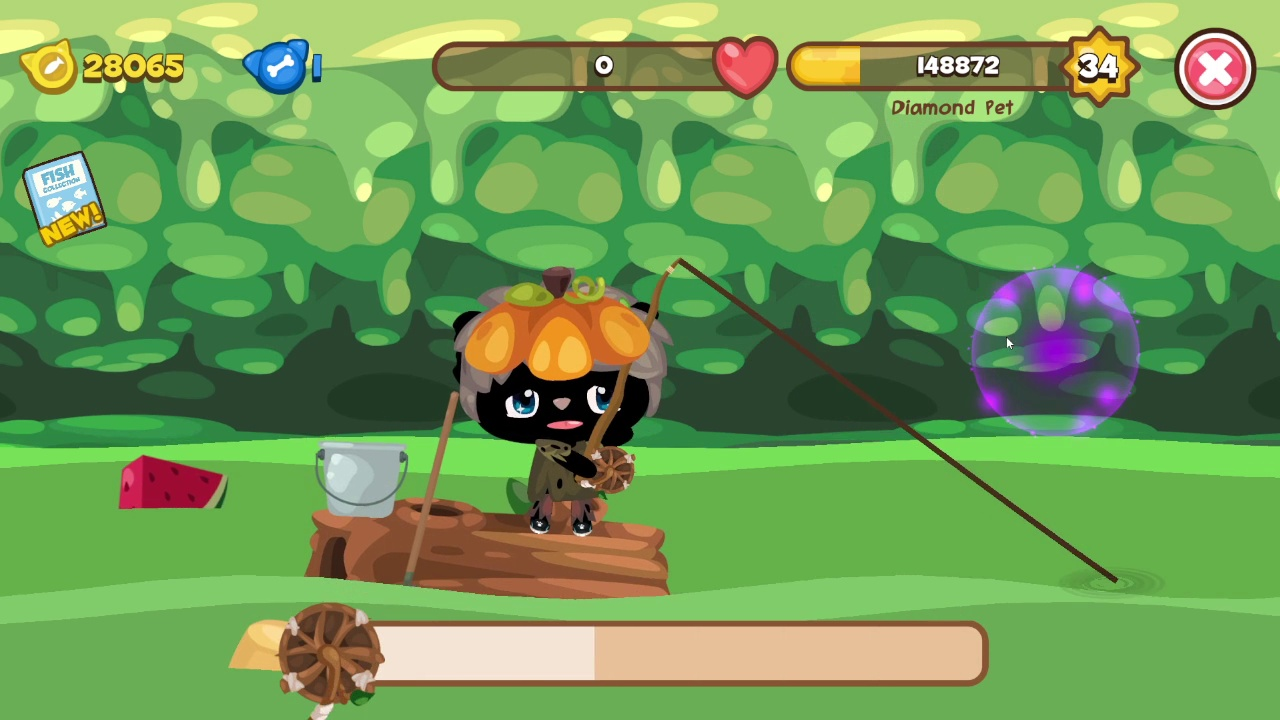point: (971, 265, 1138, 437)
